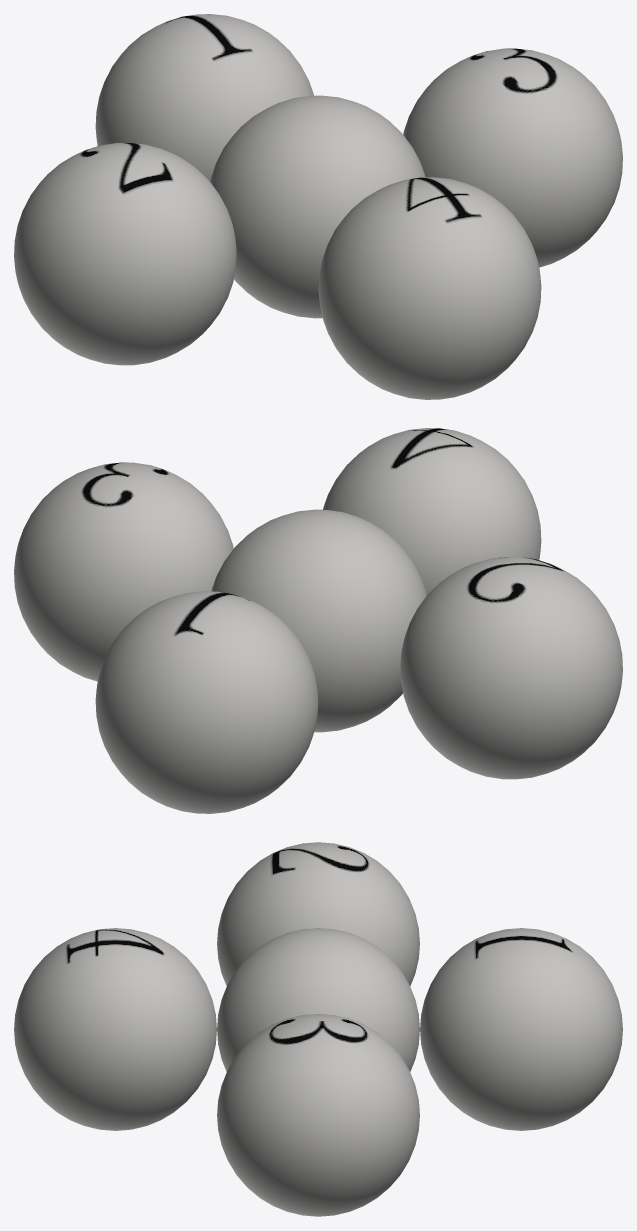
File: tixin0_2.FBX
The picture shows the model from 3 angles, top to bottom: view 1: azimuth 30°, elevation 25°; view 2: azimuth 150°, elevation 25°; view 3: azimuth 270°, elevation 25°; orthographic projection. The views are drawn at different scales.
Visible parts, largest first — view 1: 对象236; view 2: 对象236; view 3: 对象236.
Boxes of the visible parts, left/top/right/bottom form: 对象236: left=14, top=14, right=622, bottom=399; 对象236: left=14, top=428, right=622, bottom=813; 对象236: left=14, top=842, right=622, bottom=1216.
Bounding box in the file's own units: 120 × 40 × 120.
